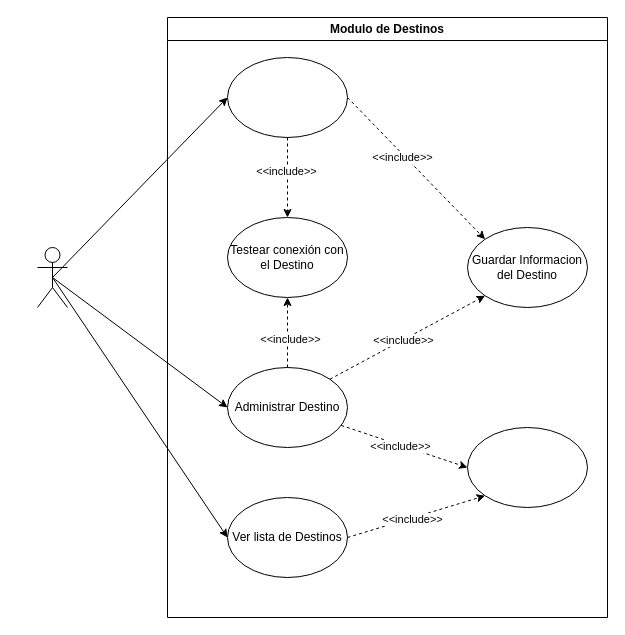
Some shapes in this 625 by 635 pixel diagram are drawn without their labels. The box of each missing label's shape, as (x1, y1, x2, y2) in pixels:
Administrator: (36, 246, 68, 308)
Crear Destino: (226, 56, 348, 138)
Obtener Informacion de los Destino: (466, 426, 588, 508)
